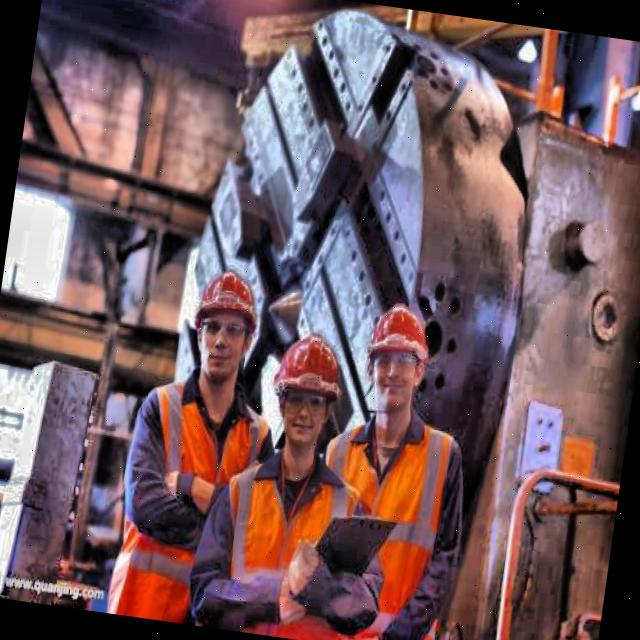helmet: (183, 254, 272, 391), (264, 326, 350, 459), (356, 293, 441, 422)
